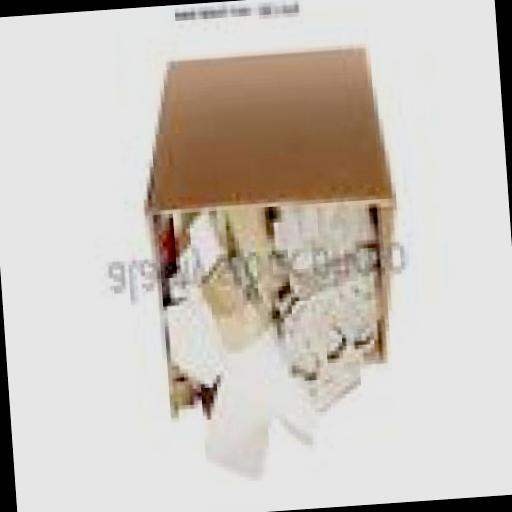cardboard: (134, 50, 404, 384), (265, 264, 387, 415), (264, 204, 382, 304), (194, 351, 280, 484), (184, 262, 270, 356), (160, 306, 234, 400), (264, 364, 322, 456), (221, 215, 272, 314), (164, 207, 225, 278), (164, 368, 212, 422), (153, 221, 186, 283)
